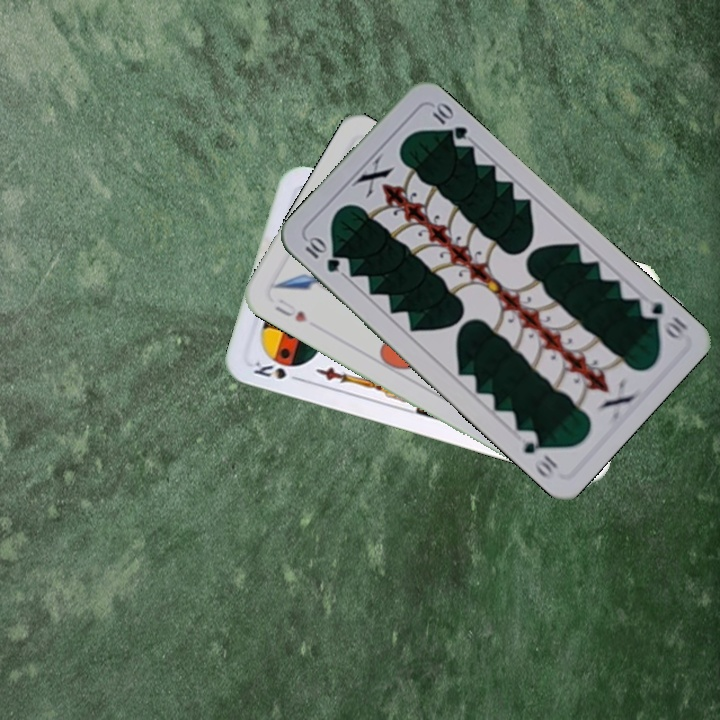G10: (635, 293, 691, 342), (301, 232, 343, 275)
HU: (270, 294, 310, 325)
SK: (249, 355, 306, 385)
